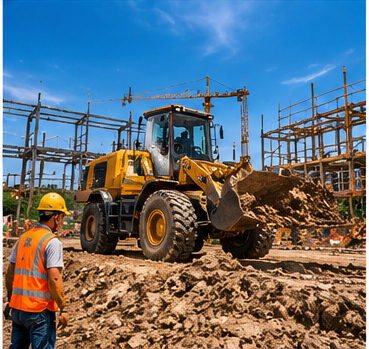crane: (111, 74, 265, 157)
hardhat: (33, 191, 75, 217)
machinery: (69, 111, 293, 274)
person: (8, 190, 77, 347)
safety_vest: (14, 225, 60, 312)
